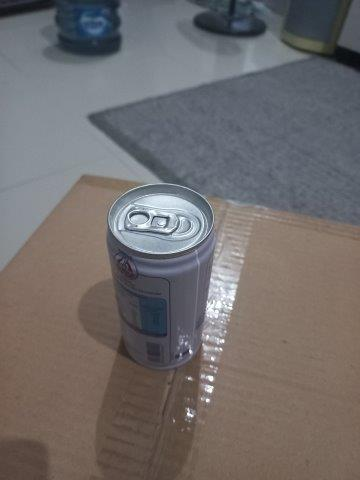kaleng: (106, 182, 216, 365)
kardus: (3, 173, 360, 480)
